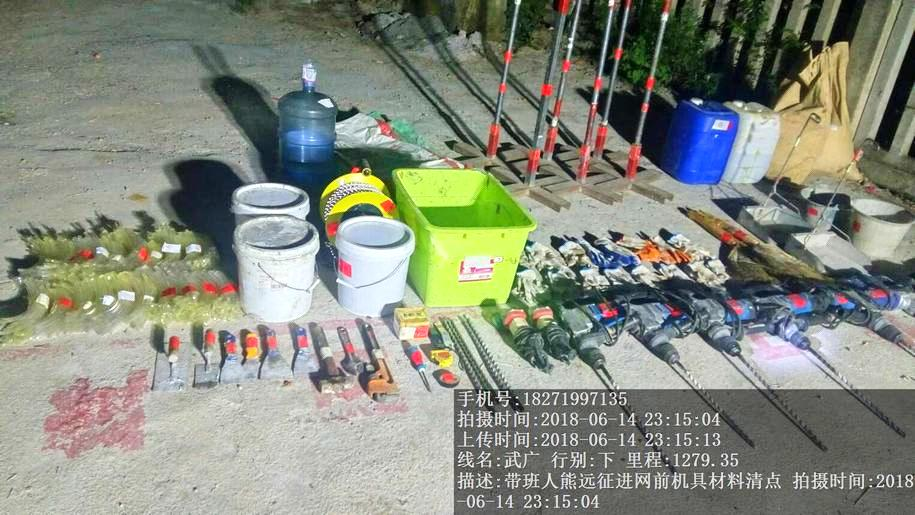DZ: (688, 292, 767, 369), (558, 301, 625, 388), (628, 302, 694, 381), (764, 293, 827, 362)
SNT: (846, 196, 911, 257)
T: (396, 166, 526, 307)
